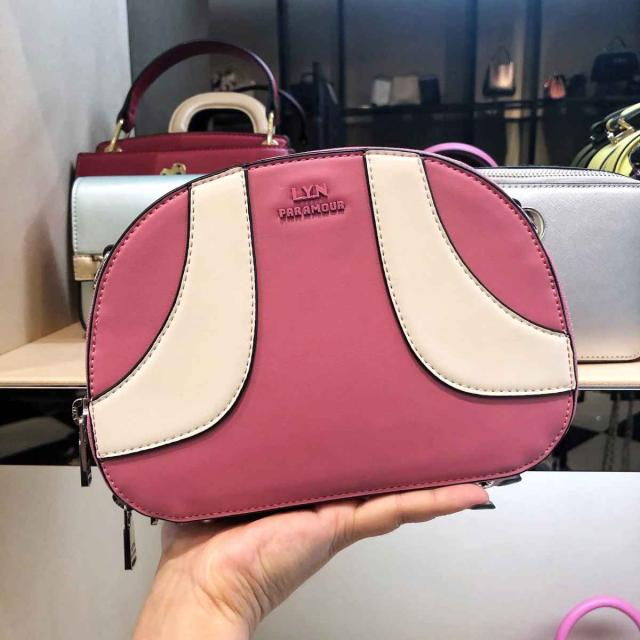Handbag: (69, 140, 590, 550)
